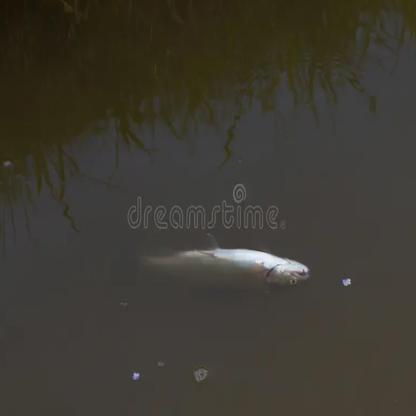deceased fish: (147, 235, 311, 291)
